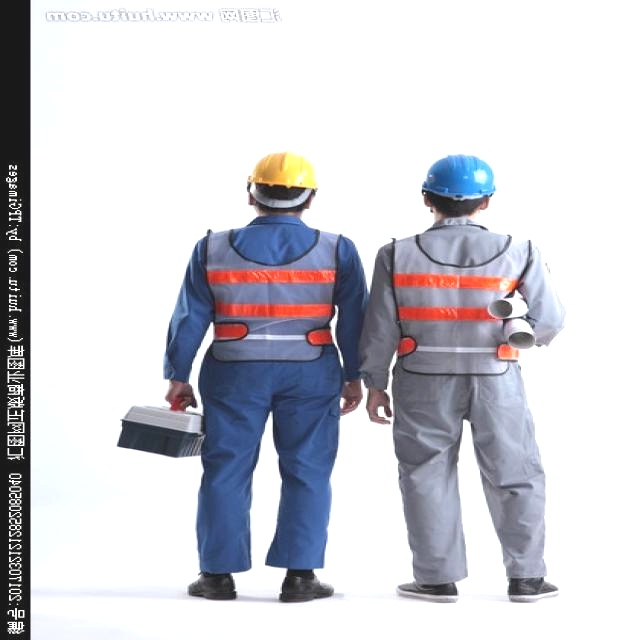Con_Casco: (419, 153, 497, 216), (243, 150, 321, 213)
Con_Chaleco: (375, 228, 533, 379), (193, 228, 351, 367)
